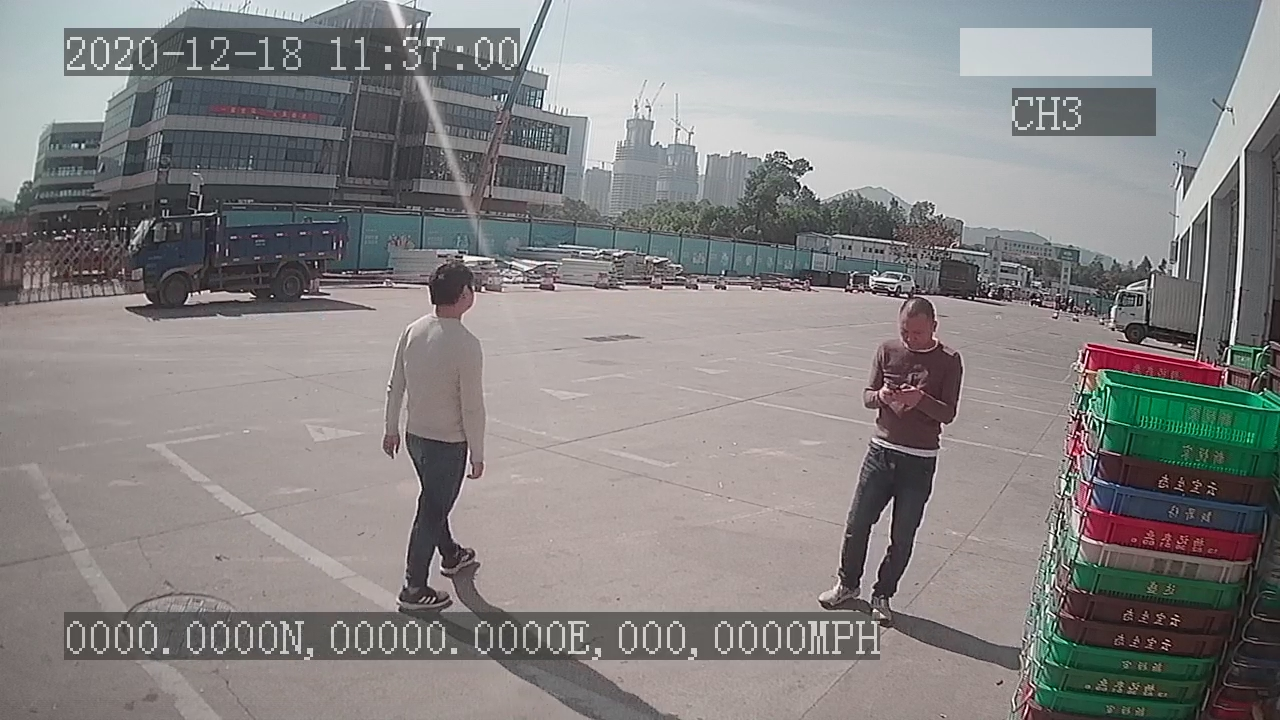person: (383, 259, 496, 607)
